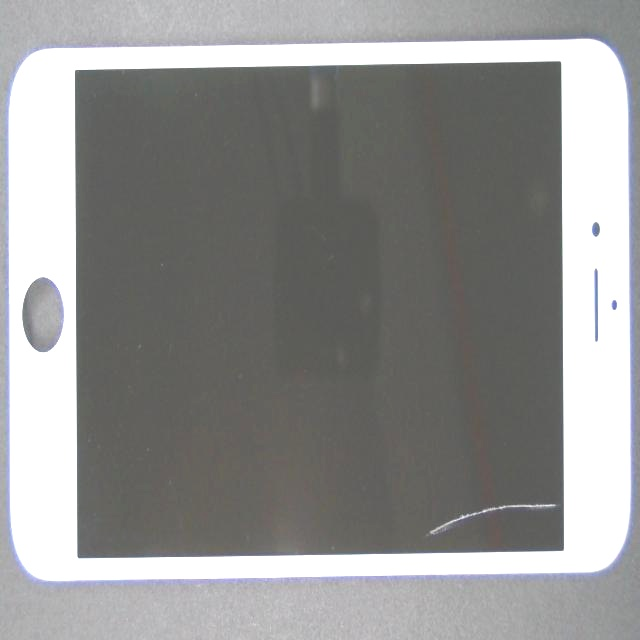scratch: (193, 273, 621, 640)
